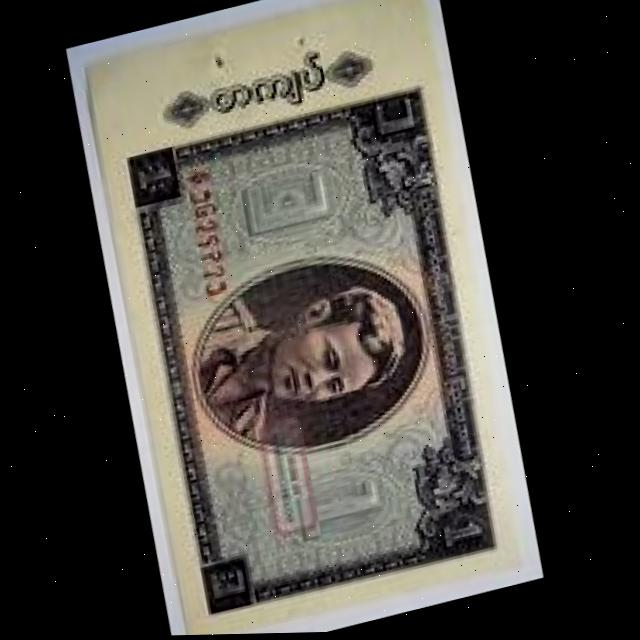banknote: (54, 0, 572, 639)
